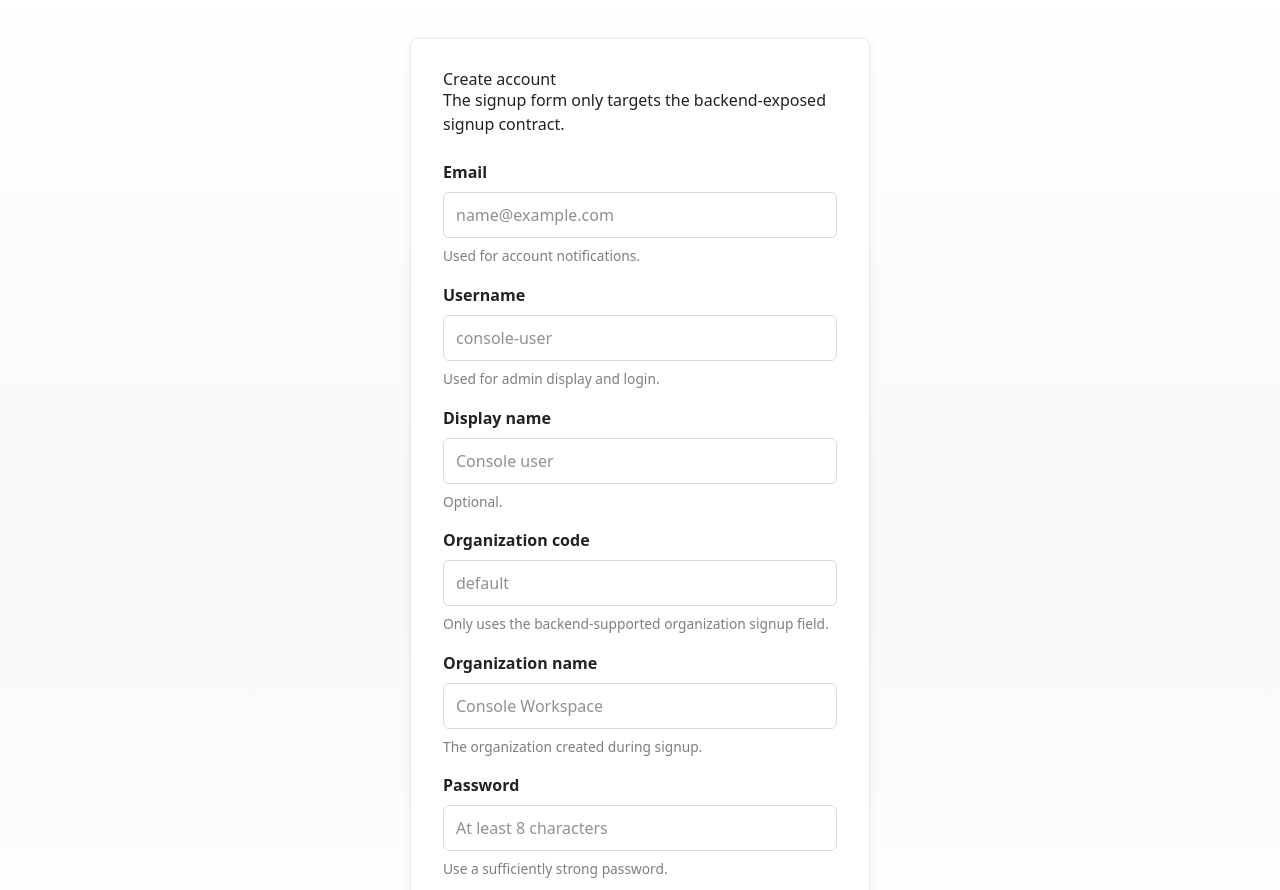
Test case: SignupRoute › shows pending state for email verification signup
Type "owner@example.com" into the field labelled "Email" at point(640, 215), box 443,192 -> 837,238
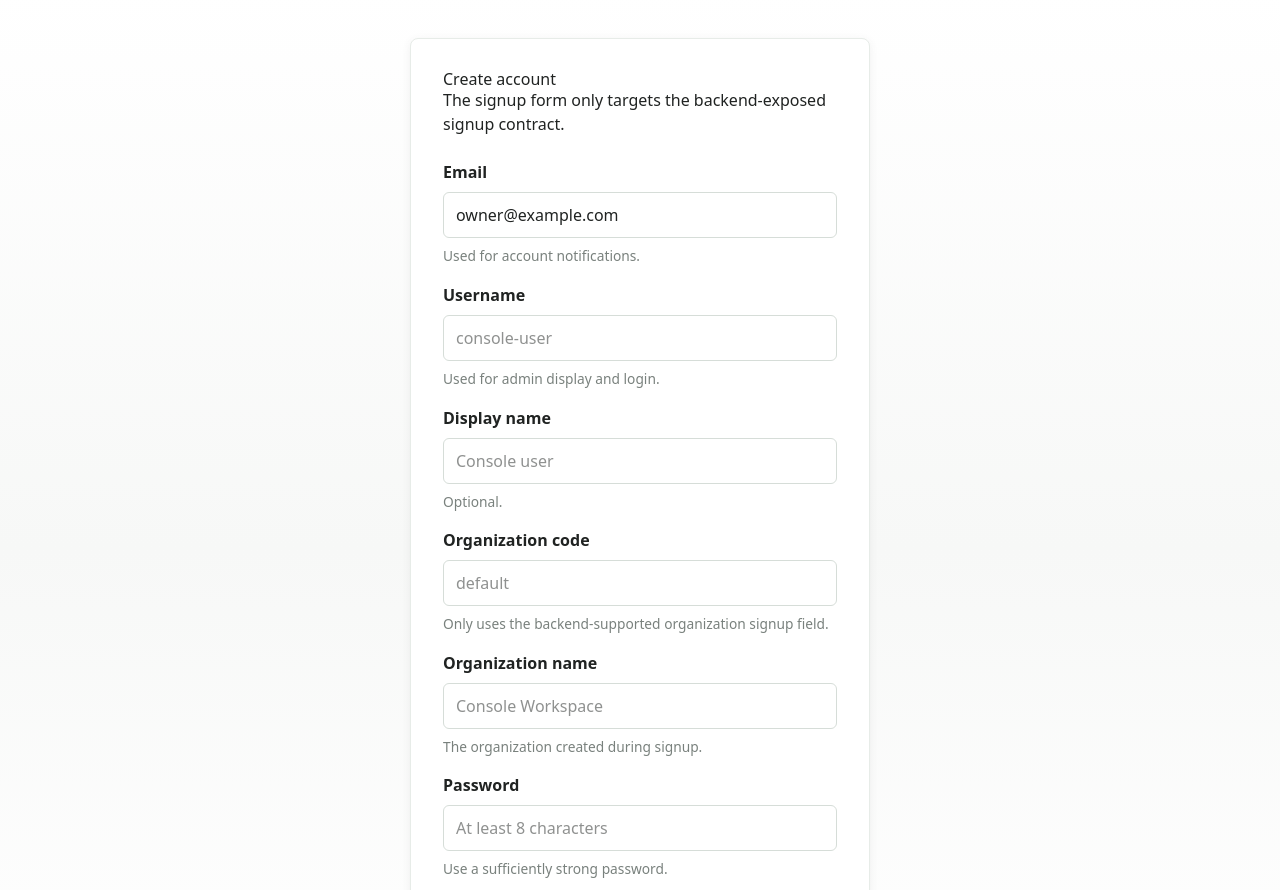
Type "owner" into the field labelled "Username" at point(640, 338), box 443,315 -> 837,361
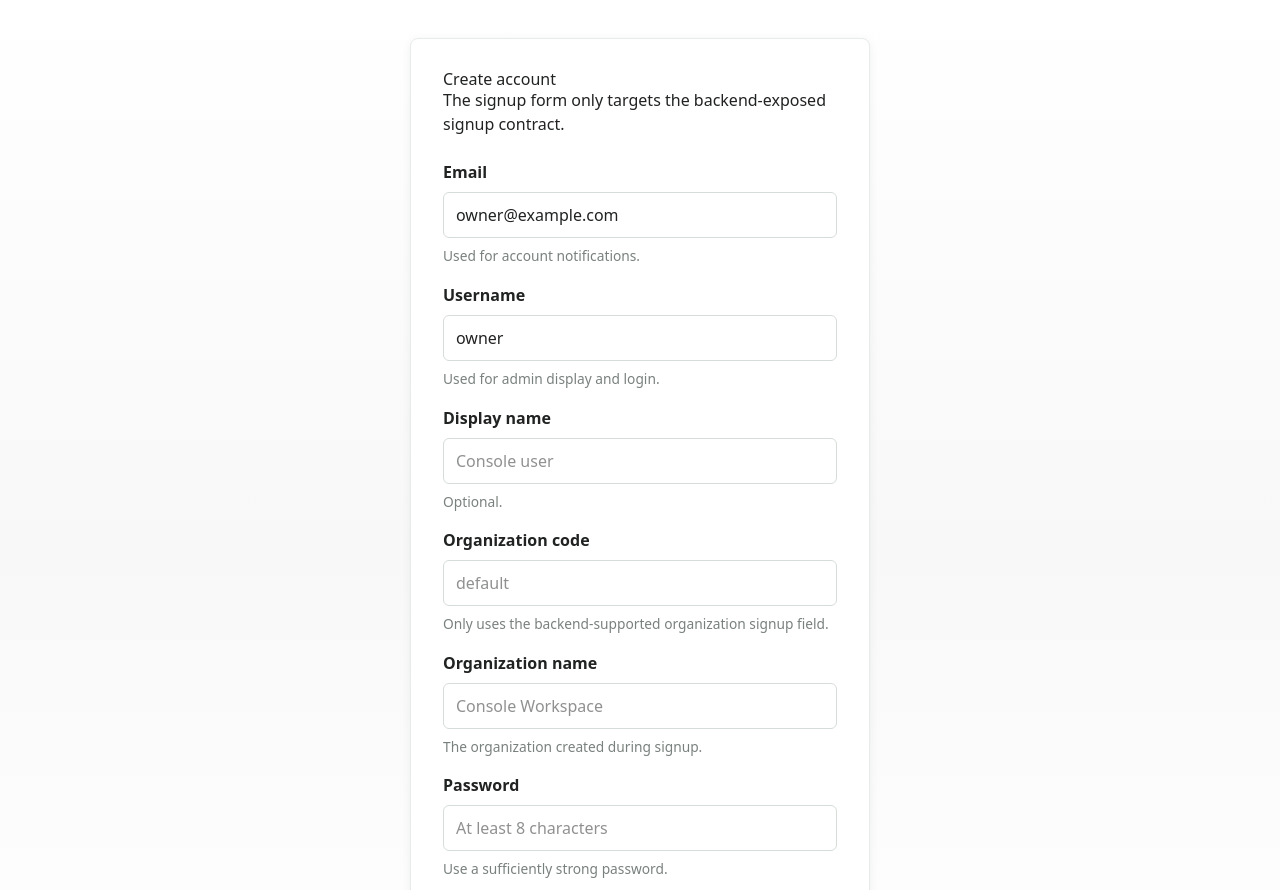
Type "acme" into the field labelled "Organization code" at point(640, 583), box 443,560 -> 837,606
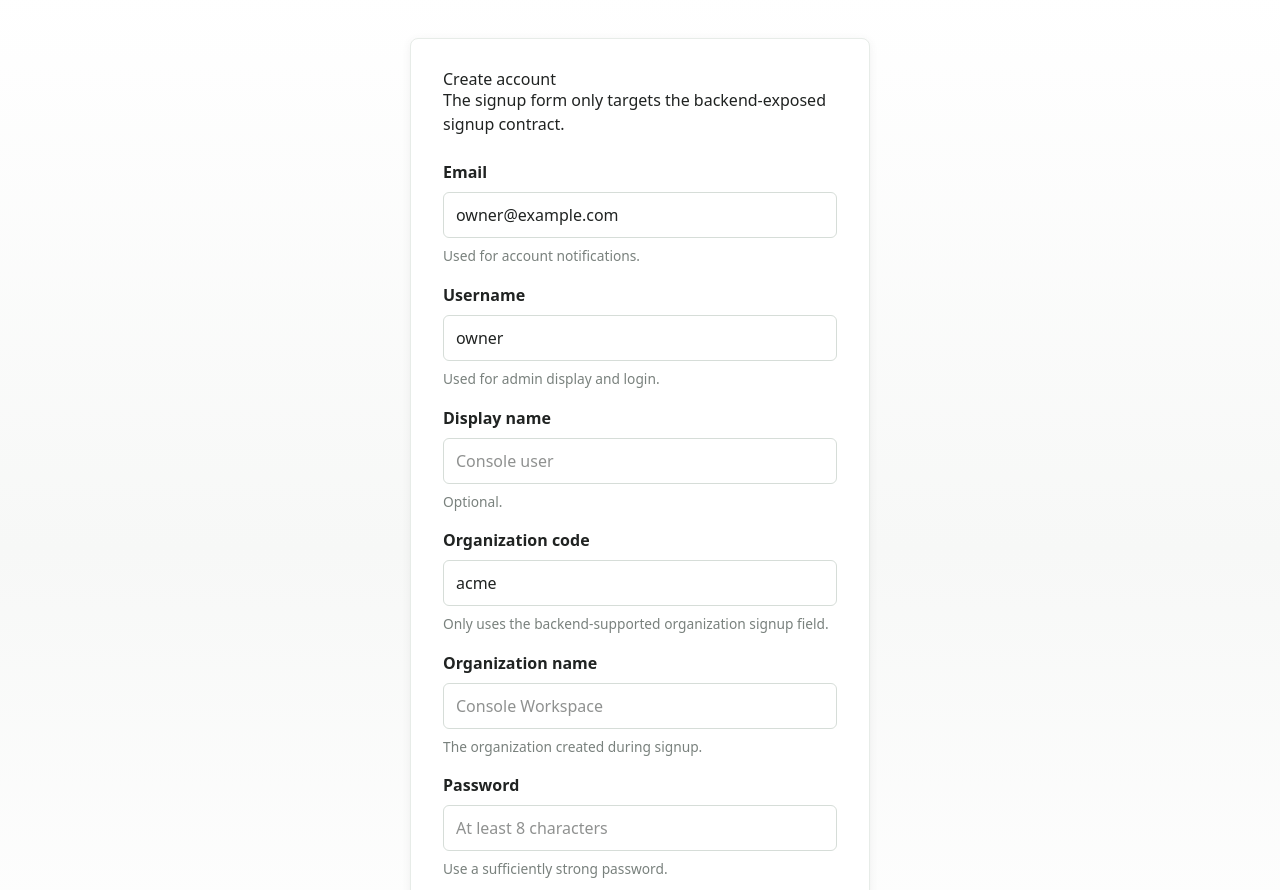
Type "Acme" into the field labelled "Organization name" at point(640, 706), box 443,683 -> 837,729
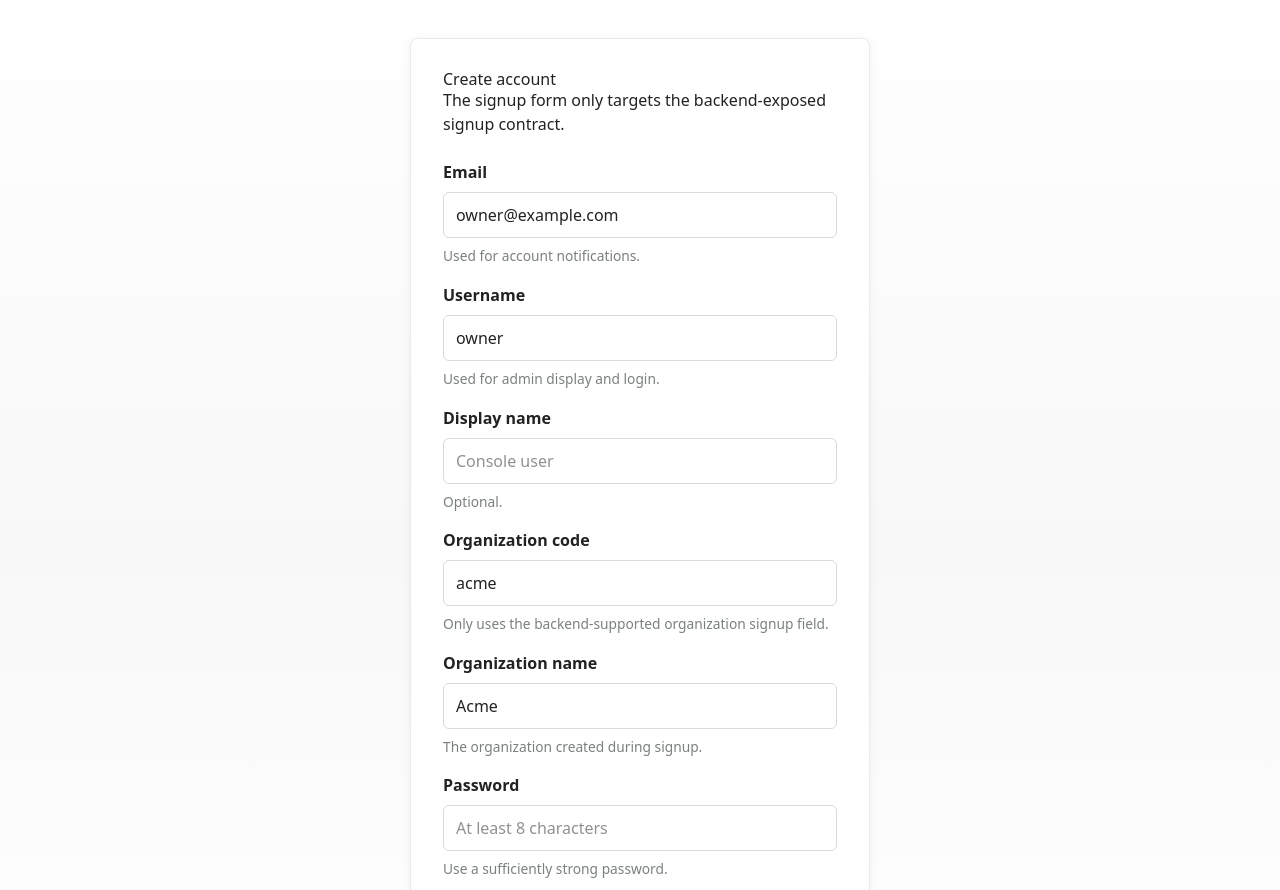
Type "password123" into the password field labelled "Password" at point(640, 828), box 443,806 -> 837,852
(page scrolled)
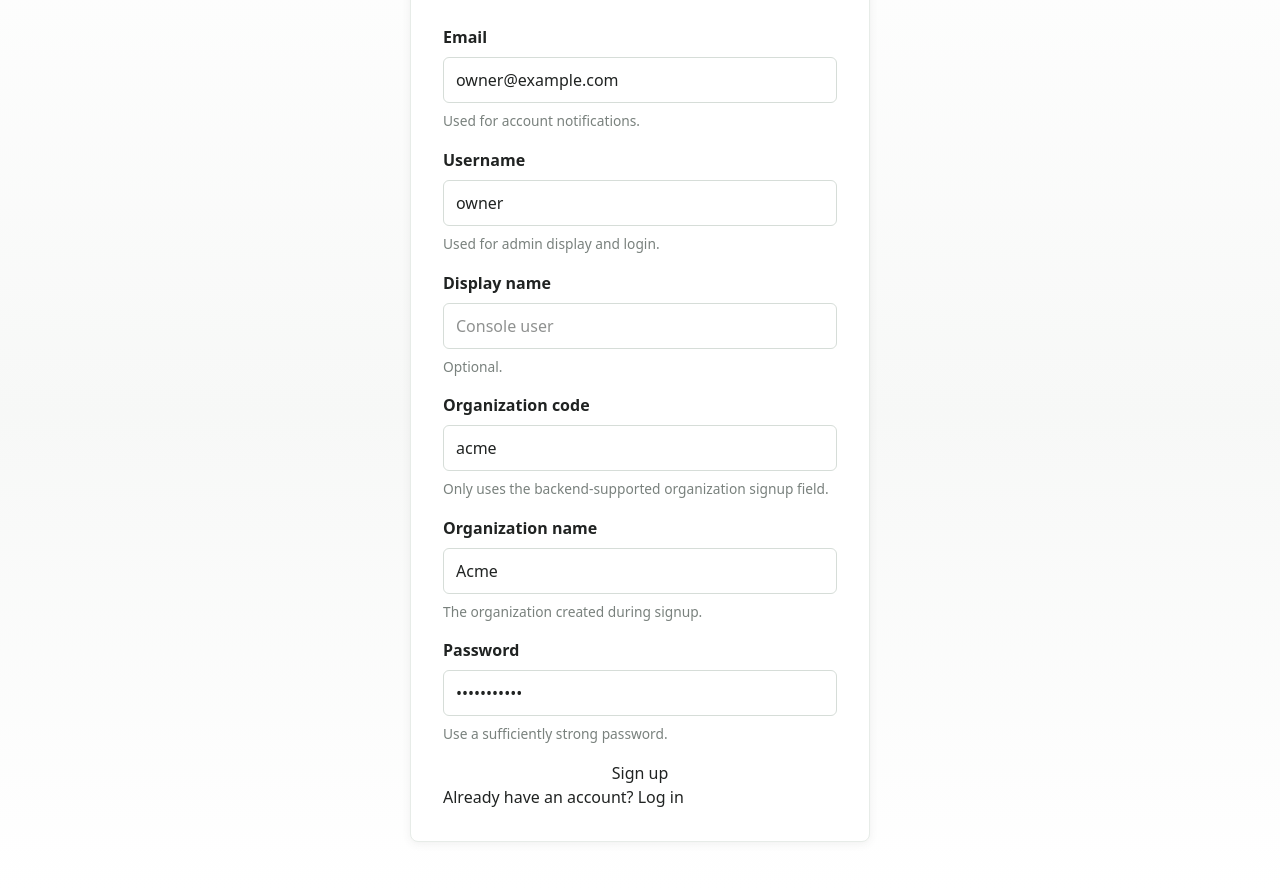
Click the button "Sign up" at point(640, 773), box 443,761 -> 837,785
(page scrolled)
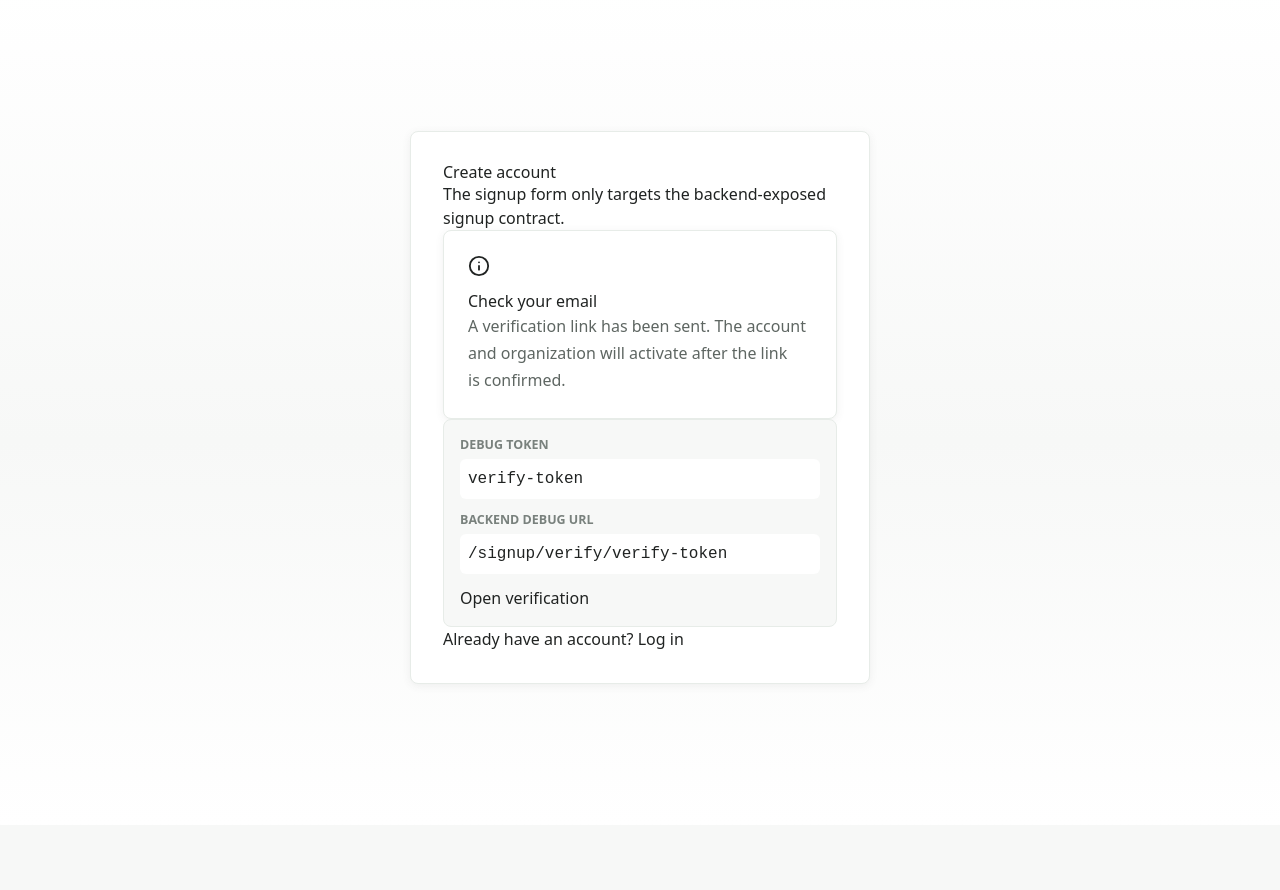
Expected: the heading "Check your email" is shown, 468,290 -> 597,312
